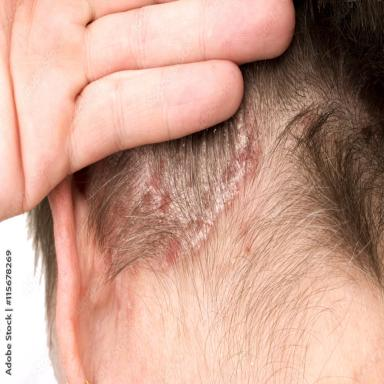Porokeratosis: (157, 111, 266, 270), (141, 155, 174, 216), (111, 182, 134, 218)
